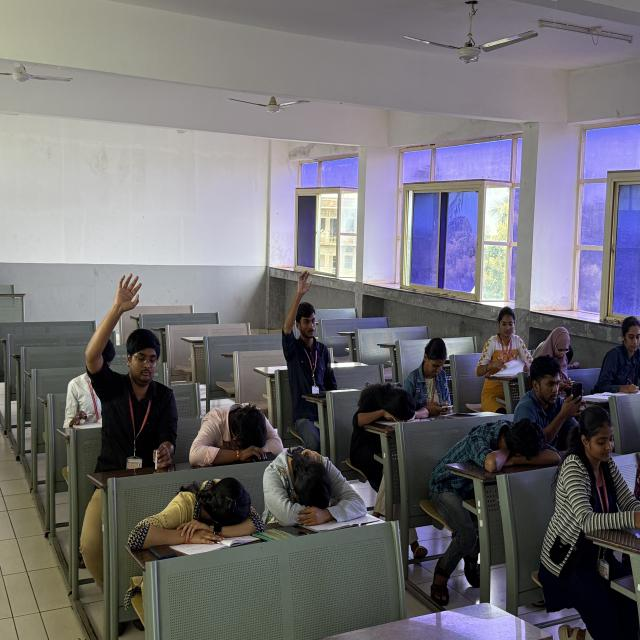Hand Rising: (80, 272, 178, 550), (281, 272, 334, 441)
Reading: (475, 302, 539, 396)
Sleeping: (250, 443, 372, 548), (135, 471, 262, 570), (182, 392, 295, 477), (471, 421, 571, 502), (346, 375, 424, 477)
Using Phone: (511, 355, 586, 465), (398, 331, 478, 432), (546, 324, 578, 393)
Writing: (605, 315, 640, 390)
